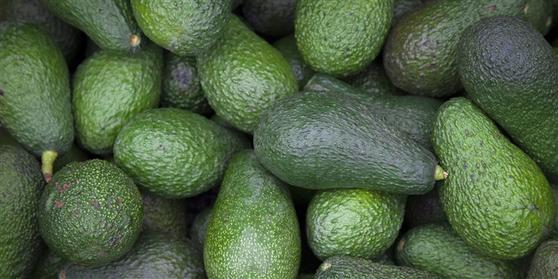avocado: (245, 79, 450, 199), (423, 91, 558, 263), (453, 9, 558, 167), (112, 99, 260, 203), (54, 38, 180, 157), (39, 154, 150, 270), (214, 154, 305, 279), (6, 32, 87, 153), (298, 182, 415, 264), (143, 1, 235, 63)
